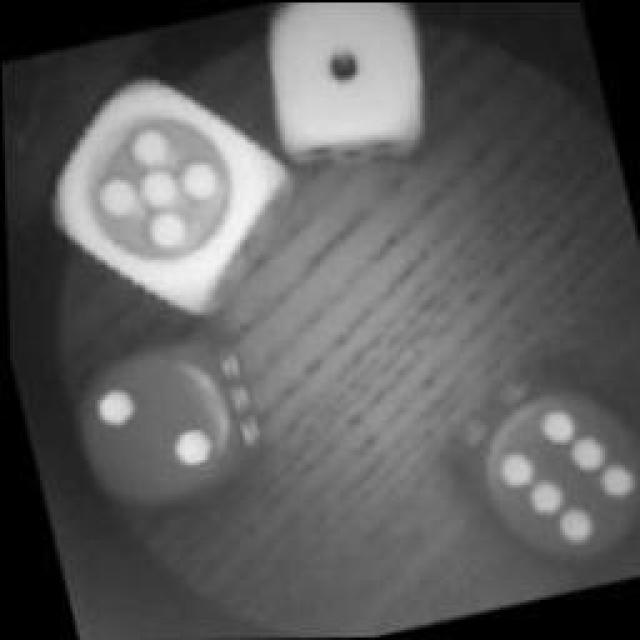dice_1: (245, 0, 455, 185)
dice_2: (46, 310, 276, 538)
dice_5: (22, 54, 312, 328)
dice_6: (435, 354, 640, 591)
